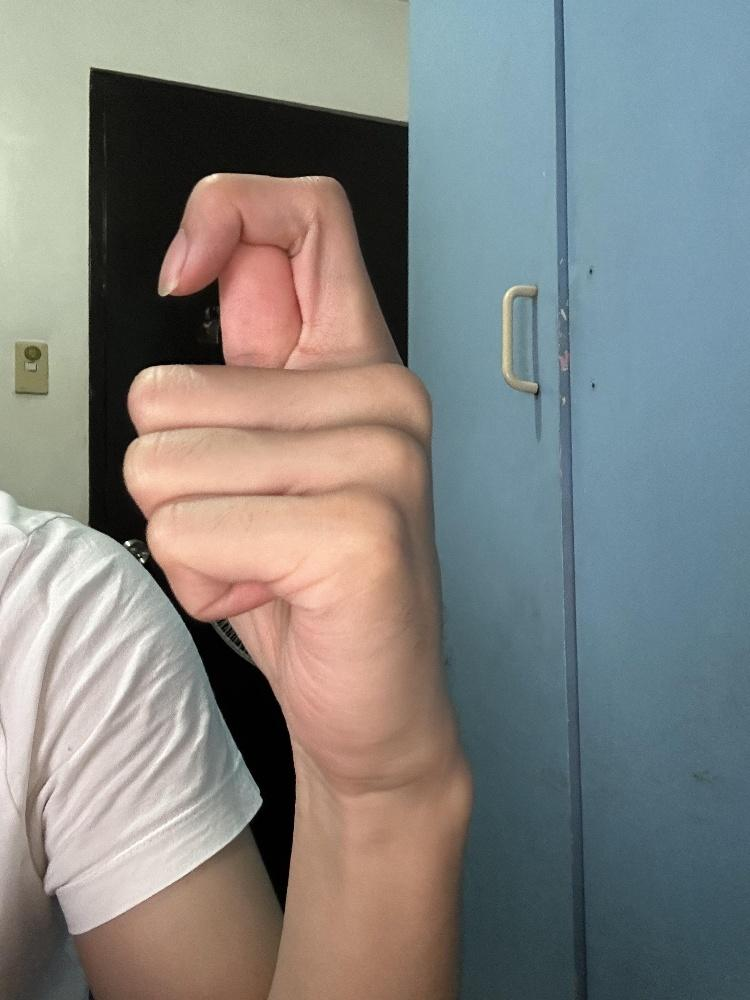t: (117, 164, 467, 792)
